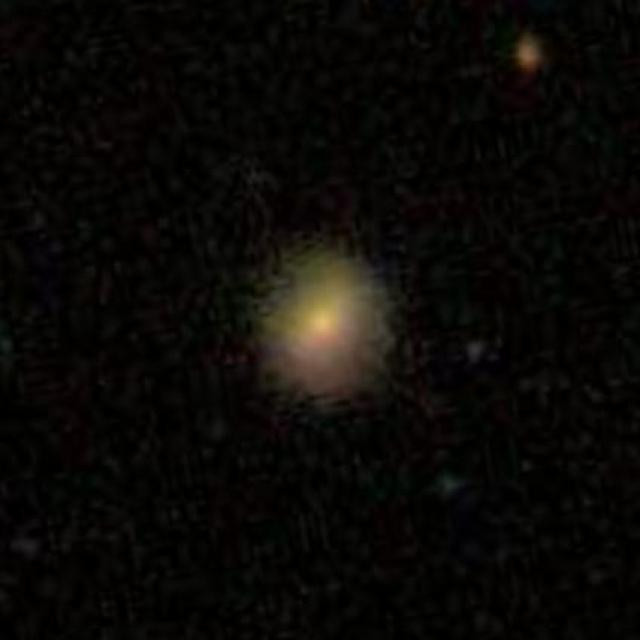galaxy: (239, 227, 405, 423), (513, 29, 551, 79)
